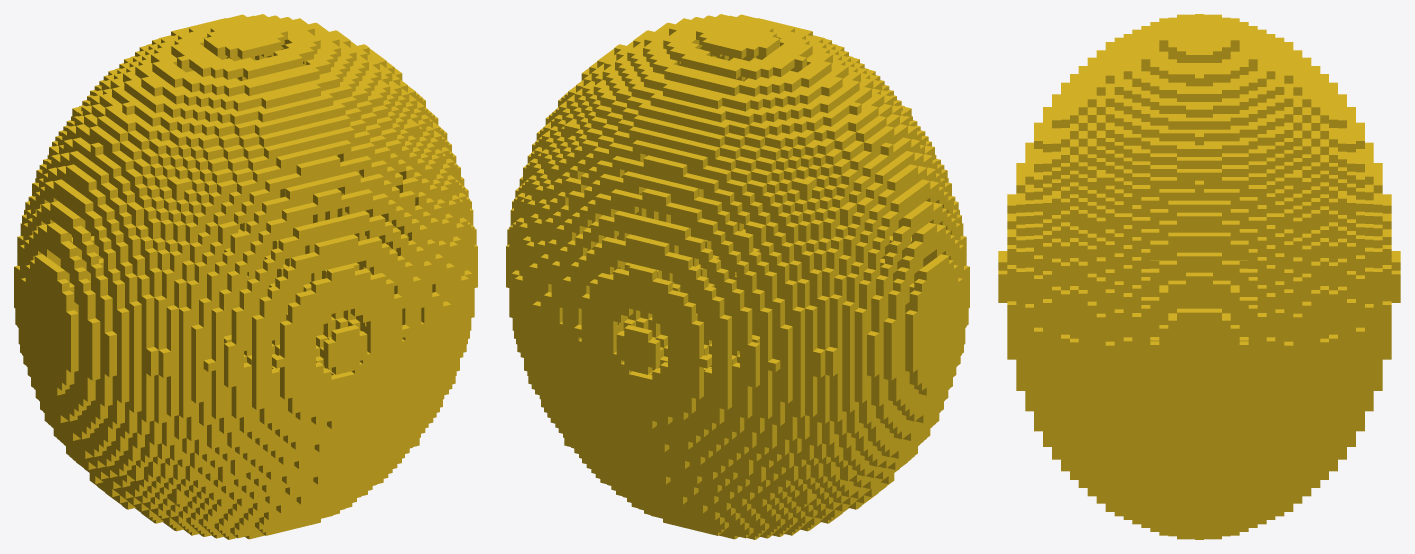
File: simple_obj_label4.obj
The picture shows the model from 3 angles, left to right: view 1: azimuth 30°, elevation 25°; view 2: azimuth 150°, elevation 25°; view 3: azimuth 270°, elevation 25°; orthographic projection.
Bounding box in the file's own units: 51 × 59 × 45.
